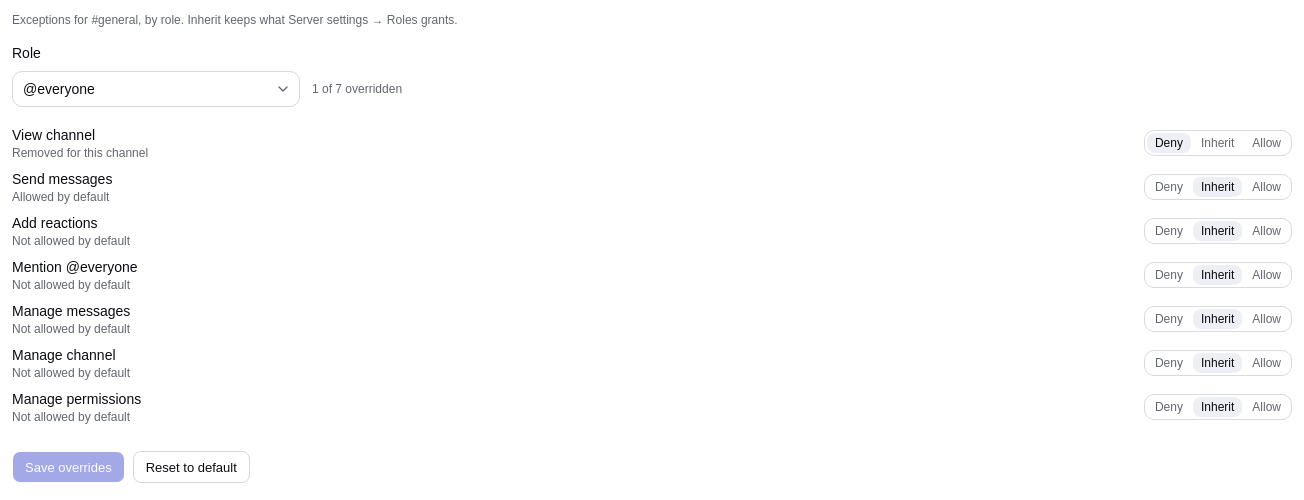
Test: ChannelPermissions › counts the overrides for the selected role and for the others
Click the dropdown named "Role".
click(59, 89)  # box [12,71,300,107]
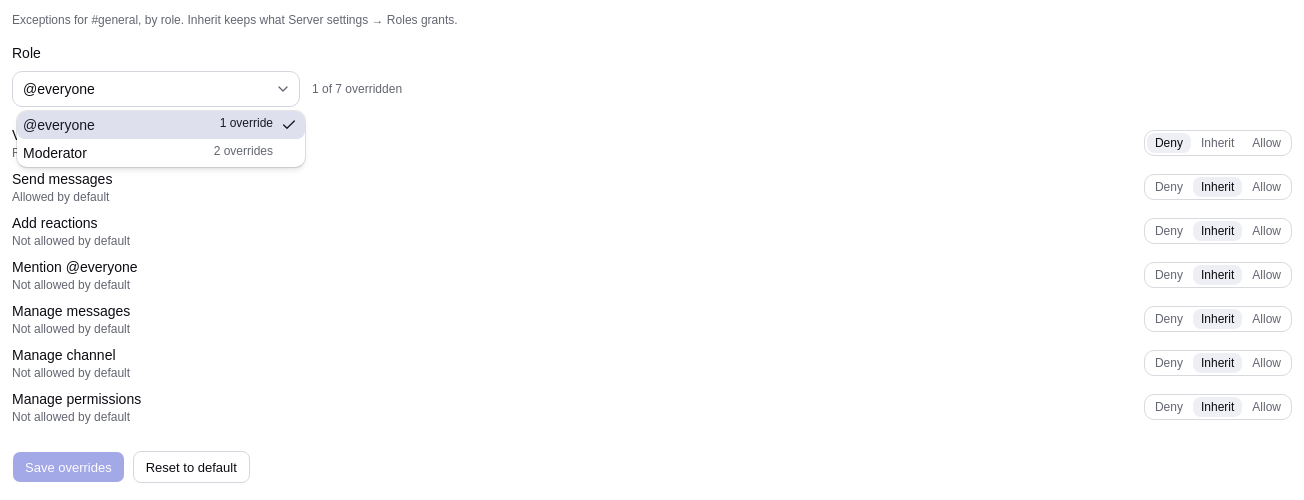
Expected: the option "Moderator 2 overrides" is shown, [17,139,305,167]
